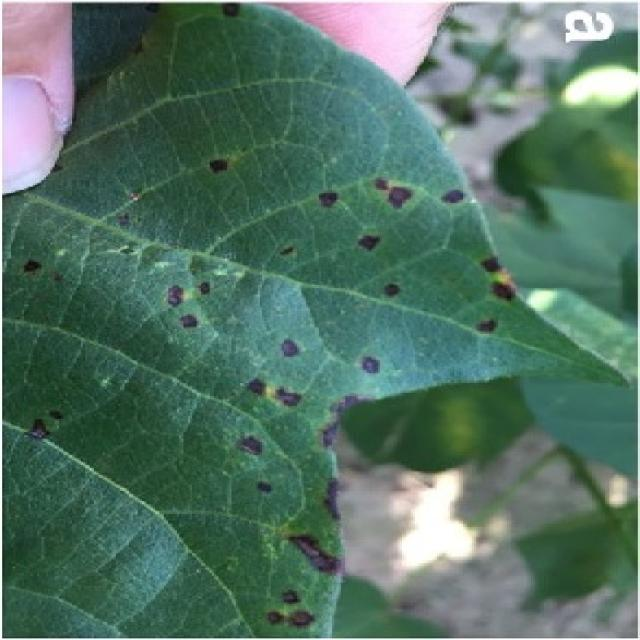Bacterial Blight: (139, 136, 463, 475)
